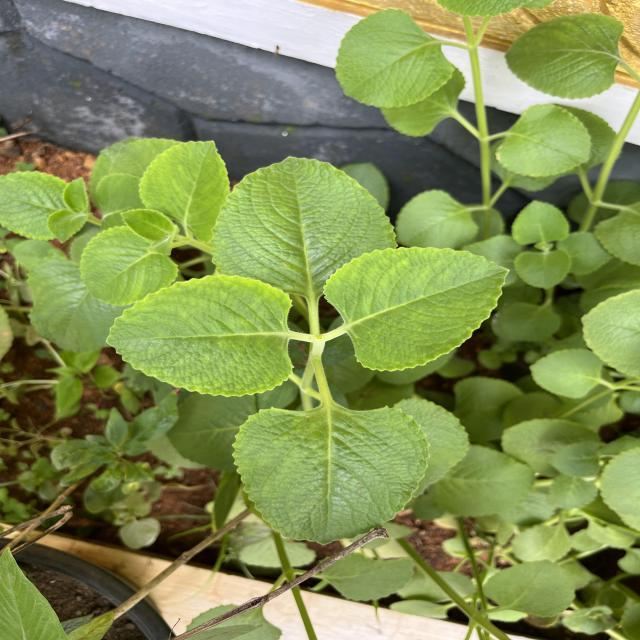Plectranthus barbatus: (231, 403, 431, 548), (322, 244, 512, 374), (208, 155, 400, 281), (104, 272, 295, 398), (334, 8, 455, 110), (502, 12, 625, 100), (138, 138, 233, 244), (79, 226, 180, 306), (494, 102, 592, 178), (0, 169, 72, 243), (395, 189, 479, 250), (510, 199, 570, 248), (513, 250, 572, 290)
